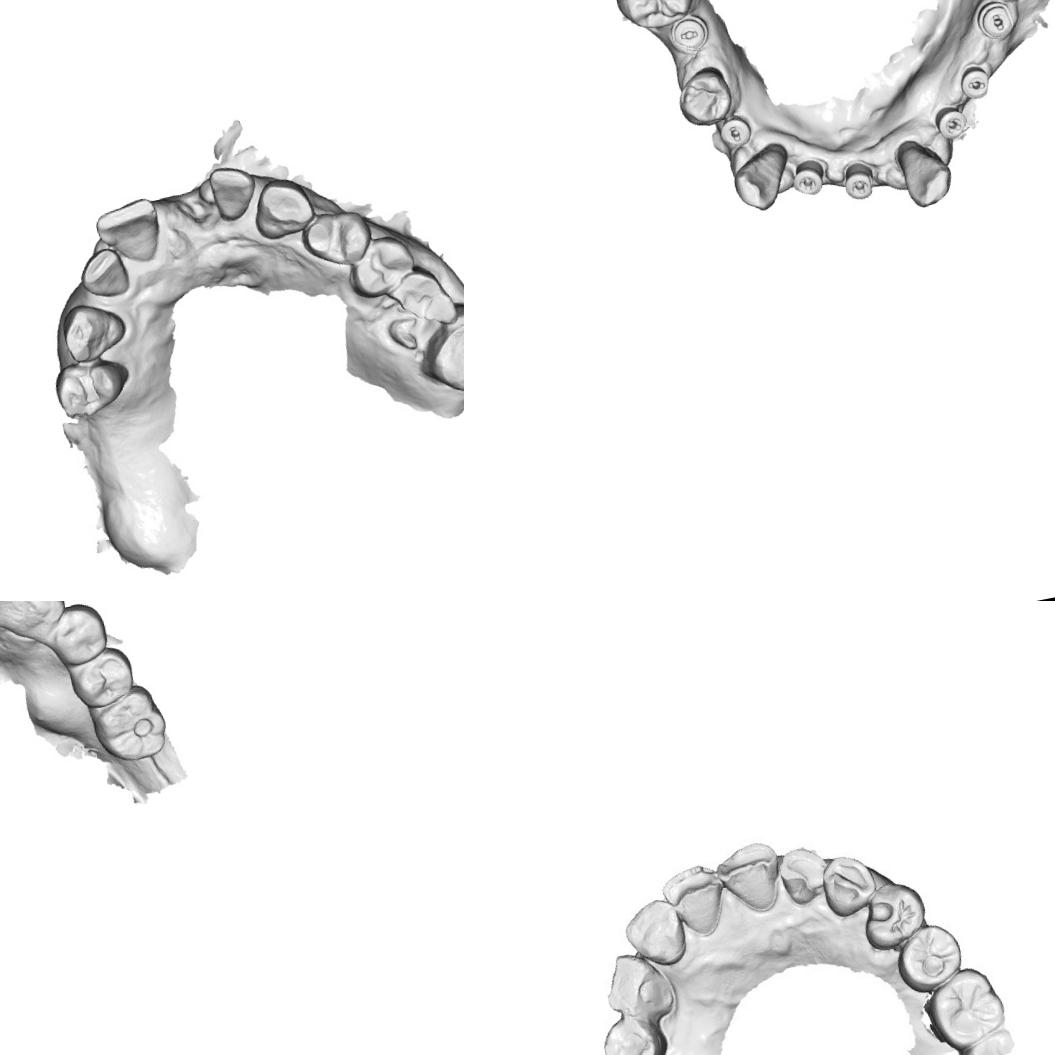canine: (598, 945, 684, 1033), (726, 139, 798, 216), (893, 132, 959, 212), (56, 296, 130, 366), (247, 174, 318, 242), (817, 850, 882, 922), (9, 601, 68, 630)
implant_minus: (665, 9, 713, 58), (970, 0, 1018, 42), (714, 111, 755, 151), (956, 62, 994, 102)
implant_plus: (838, 156, 878, 204), (931, 102, 972, 144), (788, 156, 828, 199)
incisor: (92, 194, 164, 269), (715, 840, 786, 914), (622, 894, 690, 970), (662, 862, 726, 936), (204, 161, 260, 225), (776, 844, 832, 905), (75, 244, 130, 302)
molar: (86, 680, 171, 767), (929, 967, 1007, 1050), (408, 294, 464, 401), (602, 0, 699, 35)
premolar: (48, 352, 134, 422), (342, 232, 421, 300), (297, 202, 373, 272), (65, 642, 138, 712), (671, 62, 737, 131), (47, 601, 111, 668), (863, 881, 926, 946), (897, 922, 961, 985), (600, 1012, 663, 1055)
